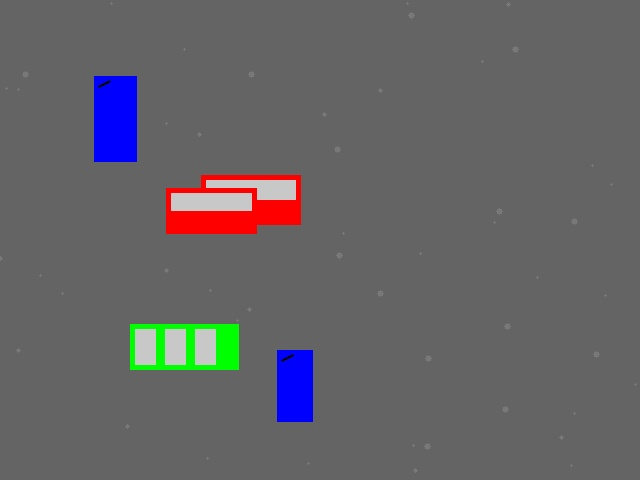bus: (130, 324, 238, 369)
car: (201, 175, 300, 224), (166, 188, 256, 233)
motorcycle: (94, 76, 136, 161), (277, 350, 312, 421)
